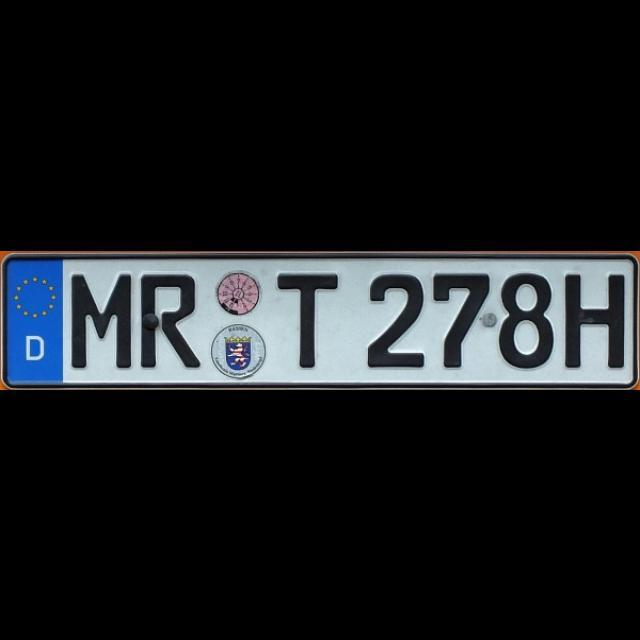license-plates: (1, 254, 640, 388)
